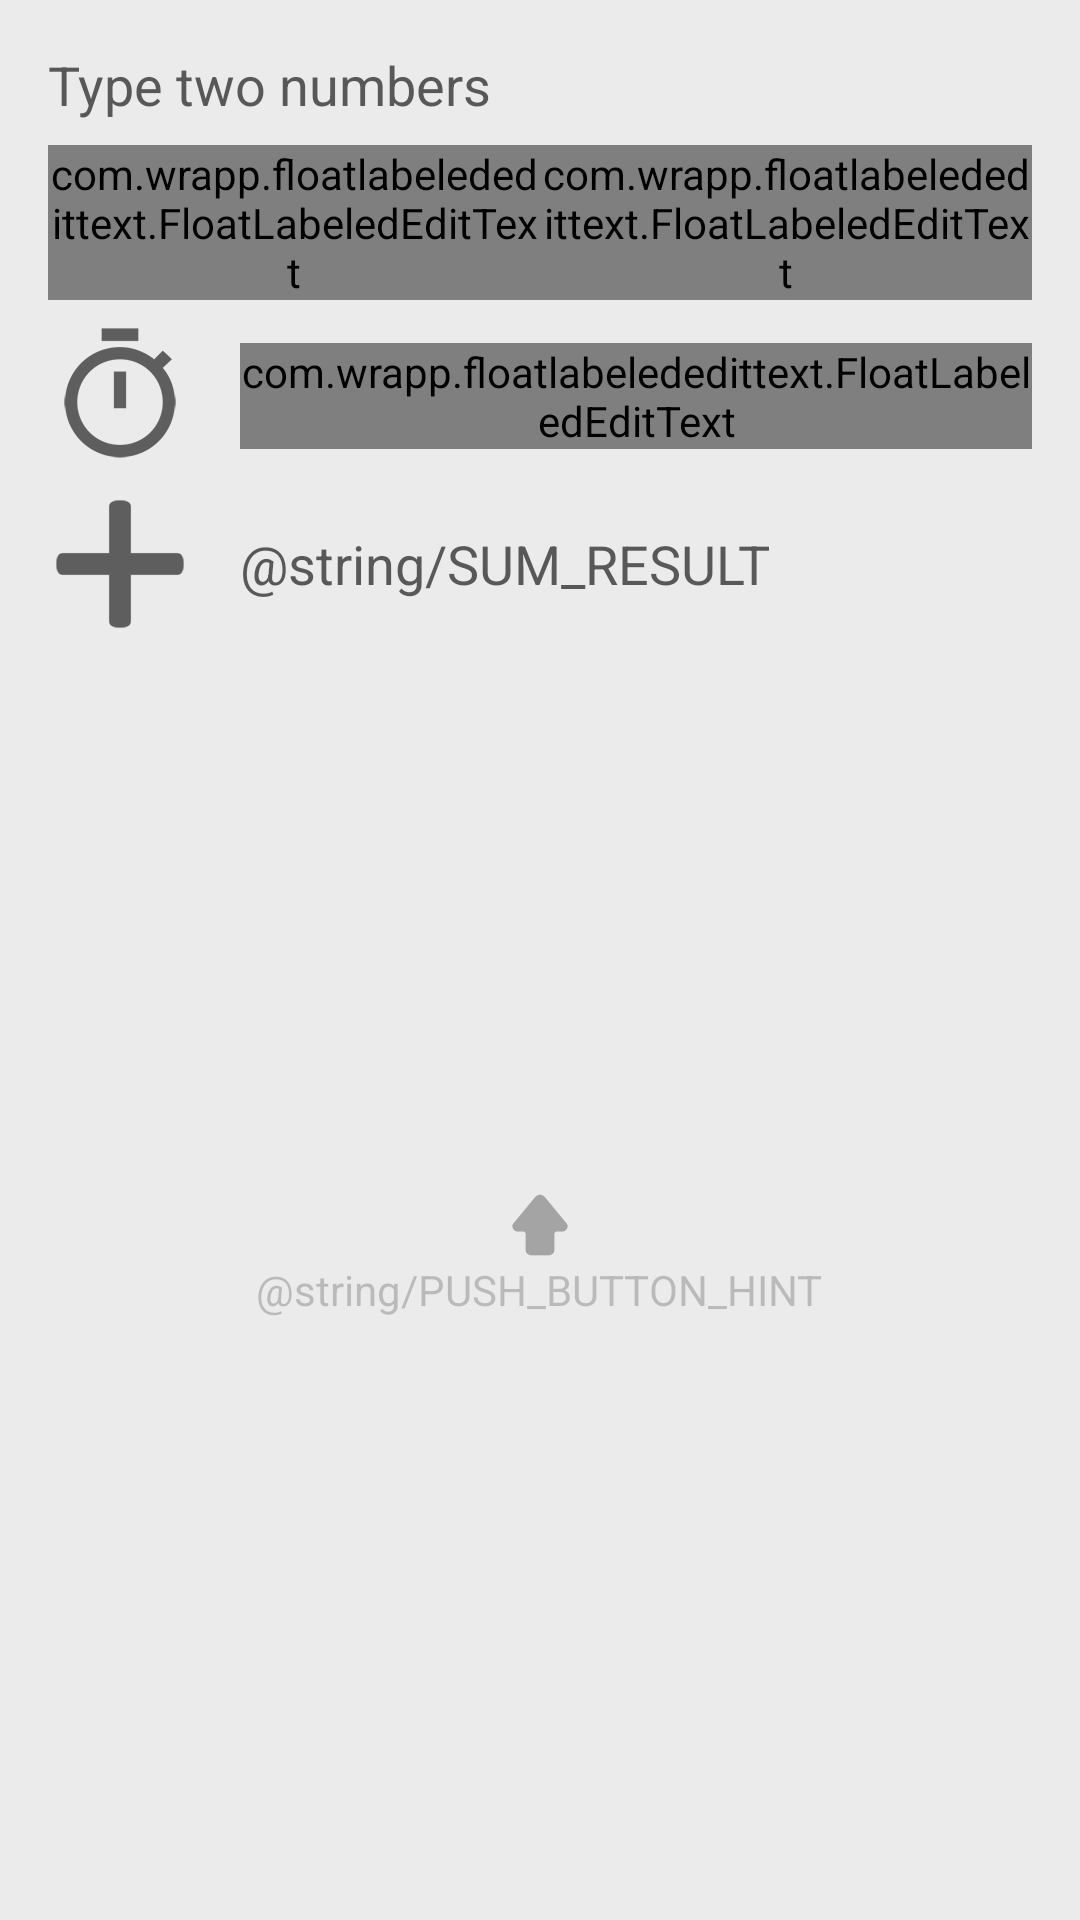

Screen size 1080w x 1920h. Icon name, then its center in pixels as (x,y):
set timer: (120,393)
